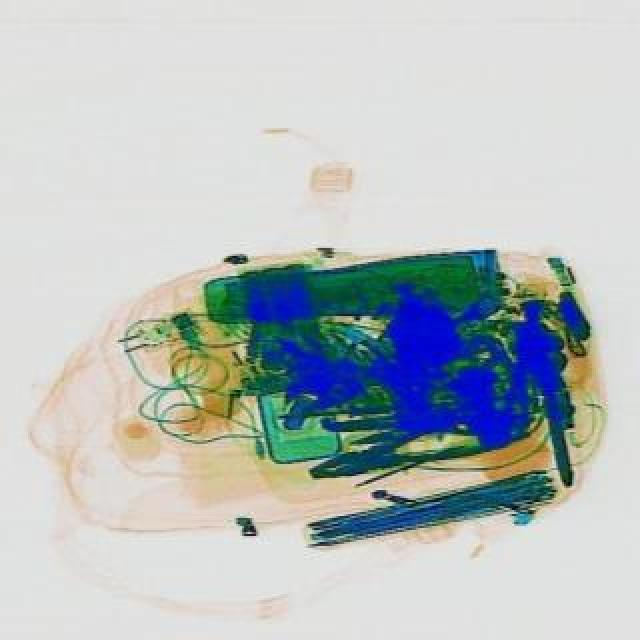wrench: (302, 398, 534, 494)
